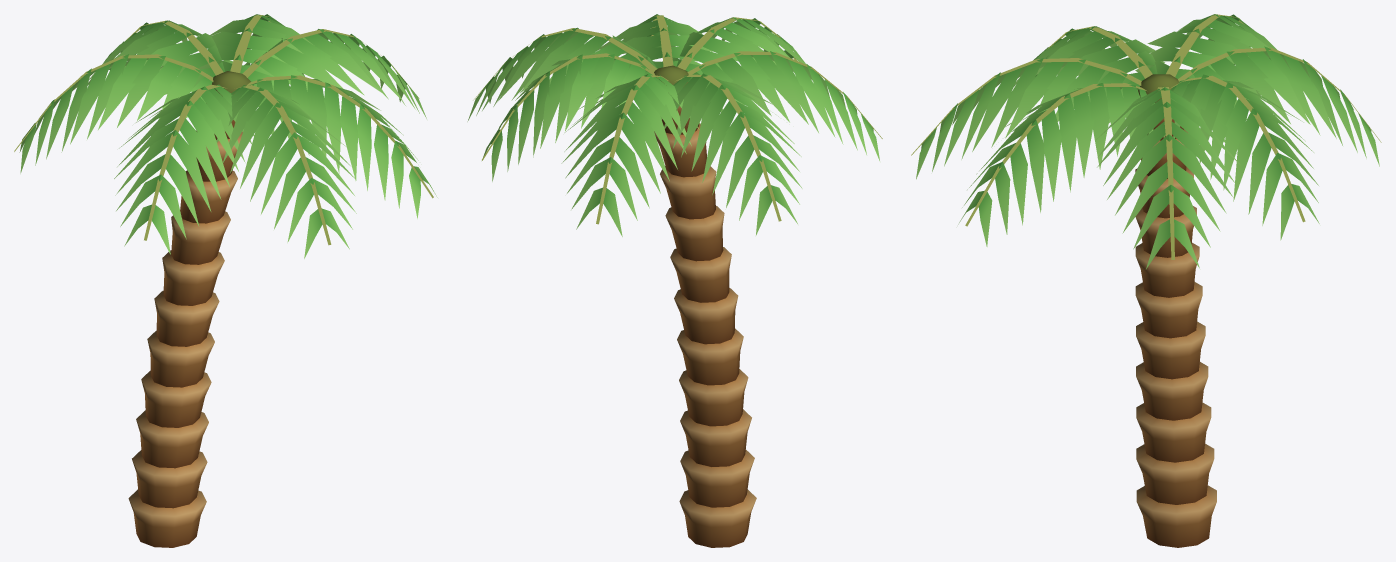
File: palm_ac_lod1.glb
3 renders of one model, left to right at view 1: azimuth 30°, elevation 25°; view 2: azimuth 150°, elevation 25°; view 3: azimuth 270°, elevation 25°, orthographic. The views are drawn at different scales.
Visible parts, largest first — view 1: palm_ac.001; view 2: palm_ac.001; view 3: palm_ac.001.
Boxes of the visible parts, box(x1,y1,x2,y2) form: palm_ac.001: box(14, 14, 437, 547); palm_ac.001: box(467, 14, 882, 547); palm_ac.001: box(911, 14, 1381, 547).
Bounding box in the file's own units: 3.23 × 4.03 × 3.36.
